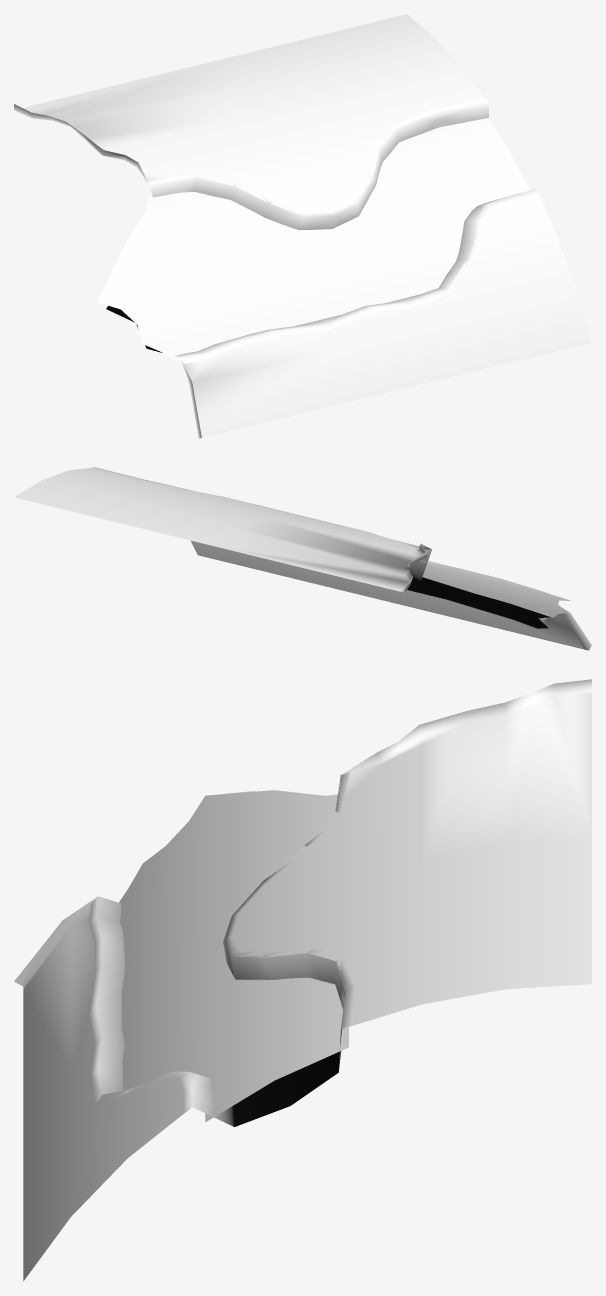
File: grd_Re_F_1.dae
The picture shows the model from 3 angles, top to bottom: view 1: azimuth 30°, elevation 25°; view 2: azimuth 150°, elevation 25°; view 3: azimuth 270°, elevation 25°; orthographic projection. The views are drawn at different scales.
Visible parts, largest first — view 1: grd_Re_F_1; view 2: grd_Re_F_1; view 3: grd_Re_F_1.
Boxes of the visible parts, left/top/right/bottom form: grd_Re_F_1: left=14, top=14, right=591, bottom=438; grd_Re_F_1: left=14, top=467, right=591, bottom=650; grd_Re_F_1: left=14, top=679, right=591, bottom=1280.
Bounding box in the file's own units: 576 × 252 × 430.
Materials: 4 (1 with a texture image).
